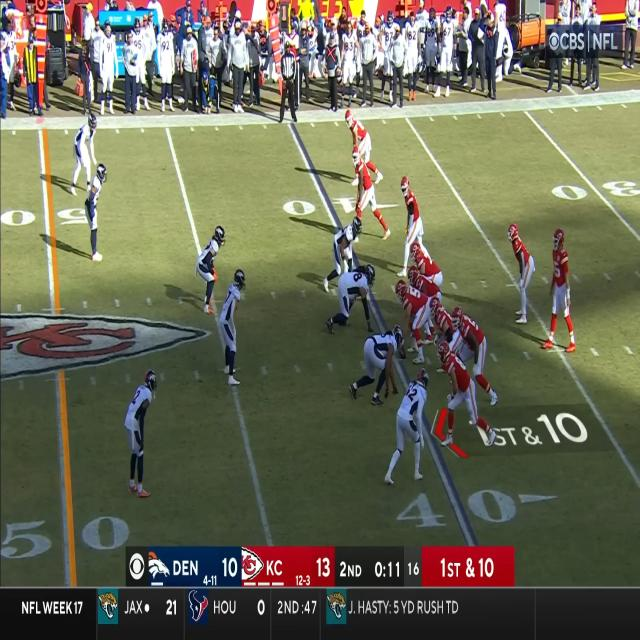players: (436, 340, 492, 447), (384, 370, 430, 484), (544, 220, 581, 354), (349, 328, 406, 404), (126, 371, 159, 499), (455, 307, 497, 403), (347, 153, 390, 242), (218, 270, 249, 385), (327, 265, 376, 337), (323, 207, 364, 293), (342, 110, 382, 197), (396, 176, 430, 276), (505, 222, 536, 324), (394, 280, 430, 356), (85, 166, 109, 266), (200, 228, 225, 319), (411, 240, 447, 298), (73, 112, 96, 196), (411, 266, 443, 316)
